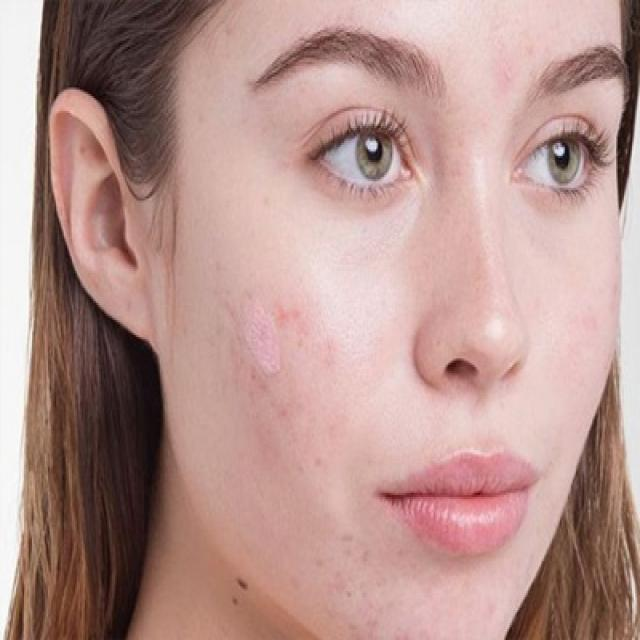Acne: (224, 276, 356, 492), (312, 525, 504, 640)
